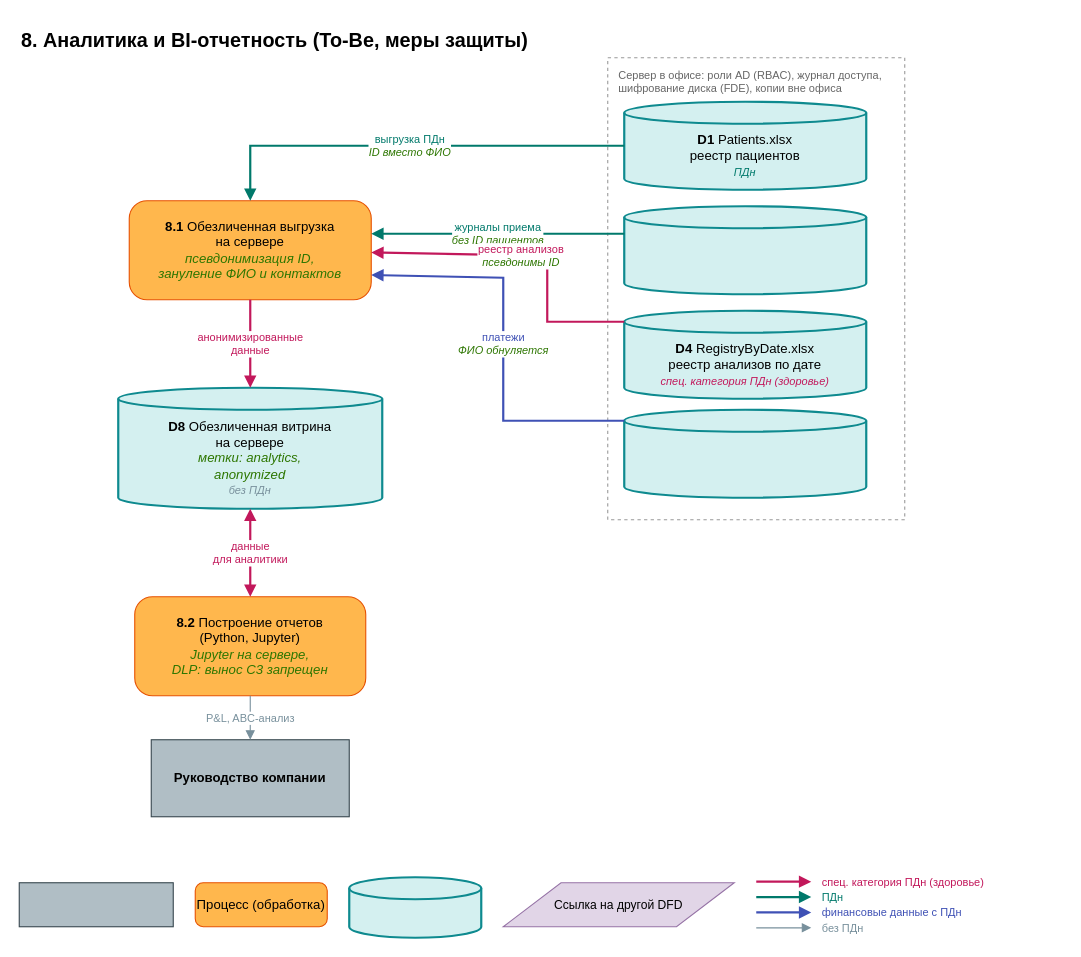
This 1081x957 diagram has some shape labels left out. The shapes that lost their labels are listed below. From the top down, each one's centre as x and y in pixels, then its label:
At point (745, 250): "D3 Journal-Doctor-FIO.xlsx журнал записи к врачу ПДн".
At point (745, 453): "D6 Реестр платежей Excel финансовые данные + ПДн".
At point (95, 904): "Внешний участник".
At point (415, 907): "Хранилище данных".
